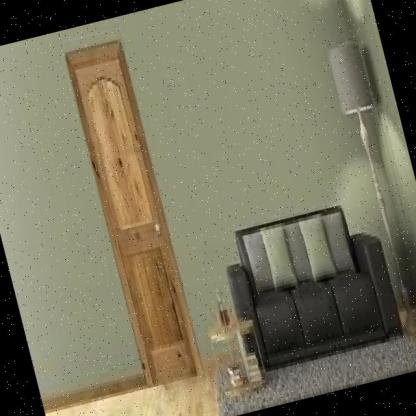Sofa: (207, 181, 406, 379)
Table: (196, 292, 276, 409)
